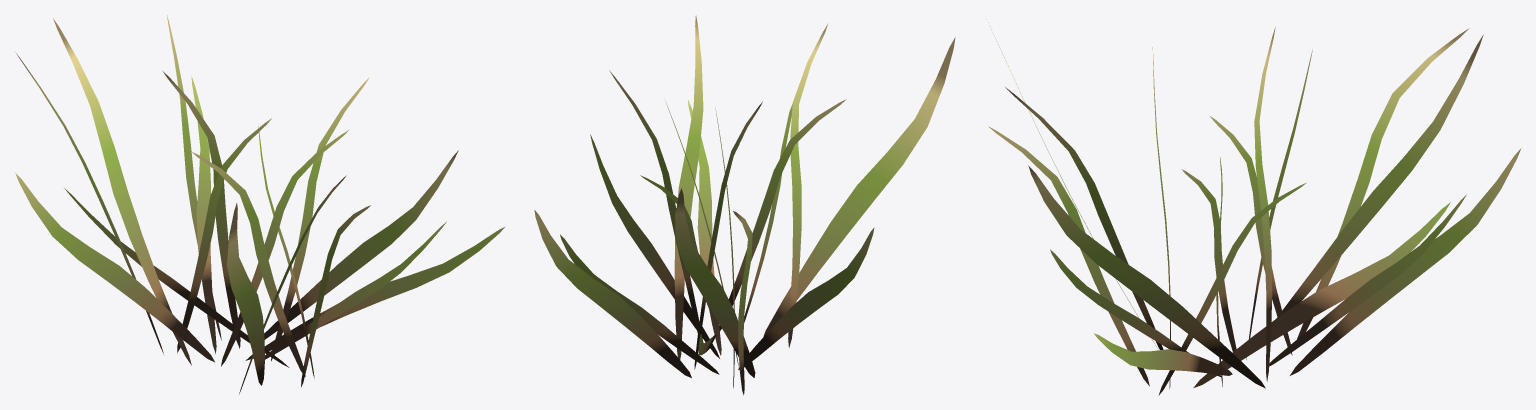
Rendered from tatarak-6.obj.
3 views of the same model, side by side, from view 1: azimuth 30°, elevation 25°; view 2: azimuth 150°, elevation 25°; view 3: azimuth 270°, elevation 25° (orthographic). The views are drawn at different scales.
Parts seen in each view (by area): view 1: tatarak6; view 2: tatarak6; view 3: tatarak6.
Part boxes in pixels (x1,y1,x2,y2): tatarak6: (15, 15, 504, 393); tatarak6: (534, 15, 955, 395); tatarak6: (988, 22, 1520, 395).
Bounding box in the file's own units: 0.65 × 0.4703 × 0.7174.
Materials: 1 (1 with a texture image).
